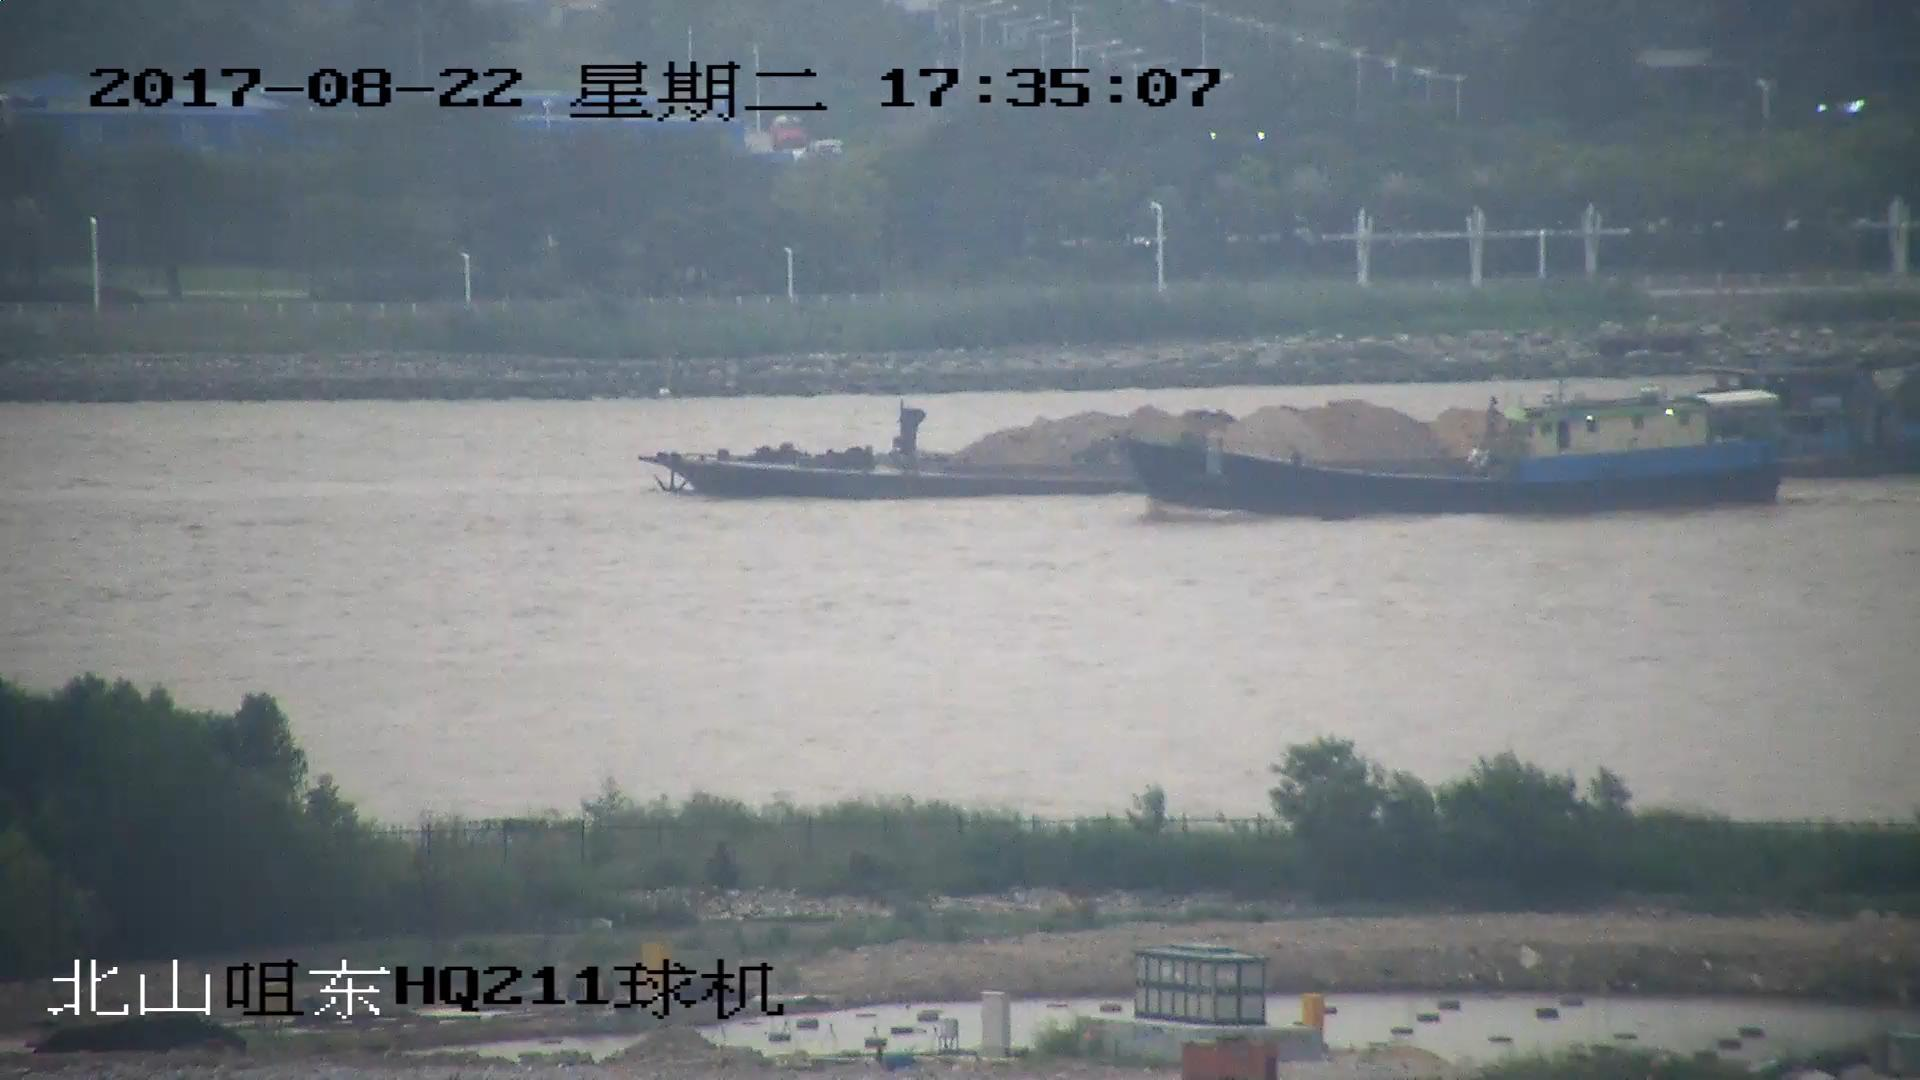Ship: (654, 367, 1920, 504), (1131, 392, 1782, 509)
